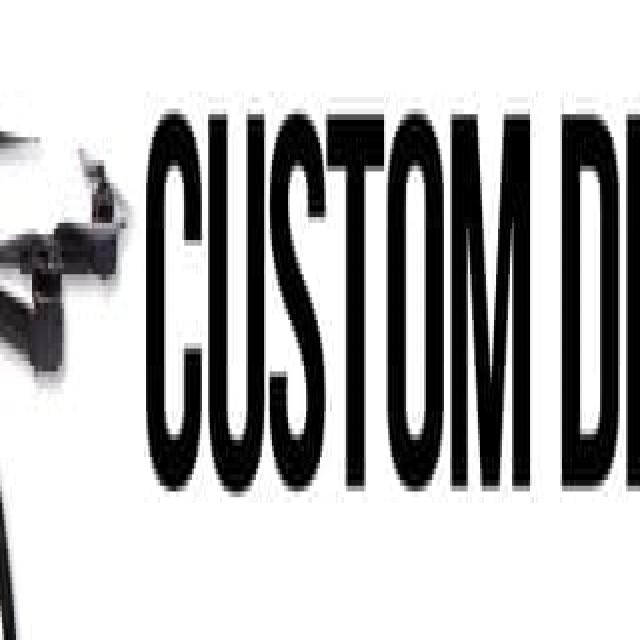drone: (0, 6, 144, 571)
